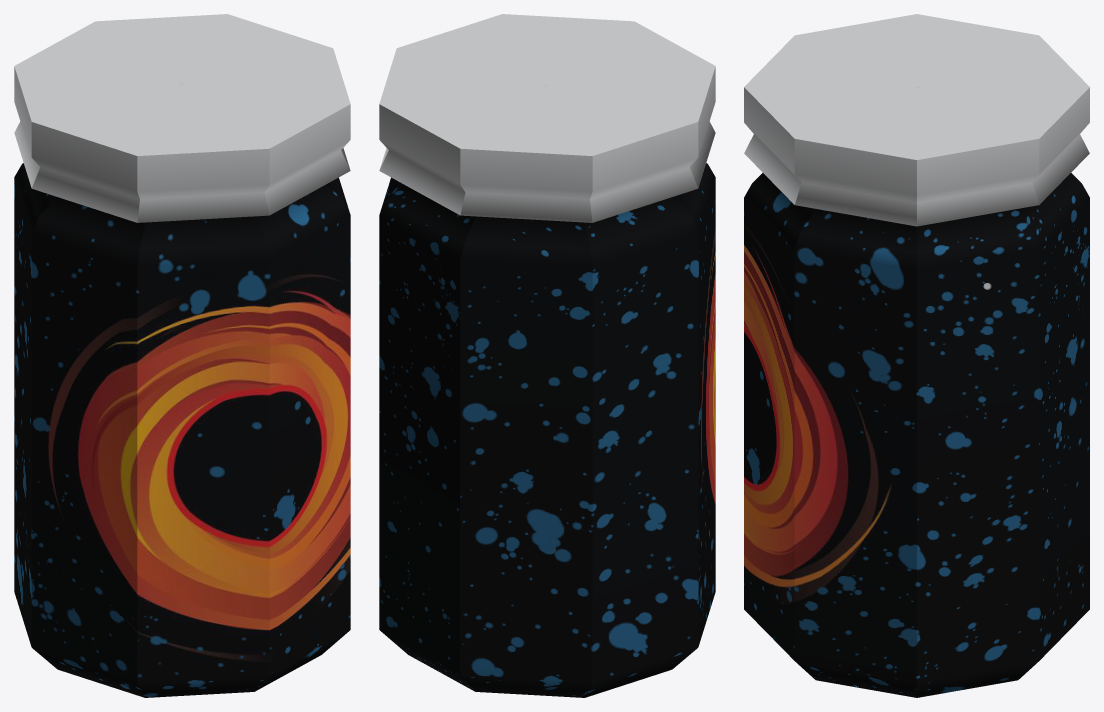
The model's file is UltiJar.fbx.
3 renders of one model, left to right at view 1: azimuth 30°, elevation 25°; view 2: azimuth 150°, elevation 25°; view 3: azimuth 270°, elevation 25°, orthographic.
Visible parts, largest first — view 1: FrascoAgujeroNegro; view 2: FrascoAgujeroNegro; view 3: FrascoAgujeroNegro.
Part boxes in pixels (x1,y1,x2,y2): FrascoAgujeroNegro: (14, 14, 350, 697); FrascoAgujeroNegro: (379, 14, 715, 697); FrascoAgujeroNegro: (744, 14, 1089, 697).
Size of the model in its own units: 9.99 by 17.54 by 9.99.
Materials: 1 (1 with a texture image).
